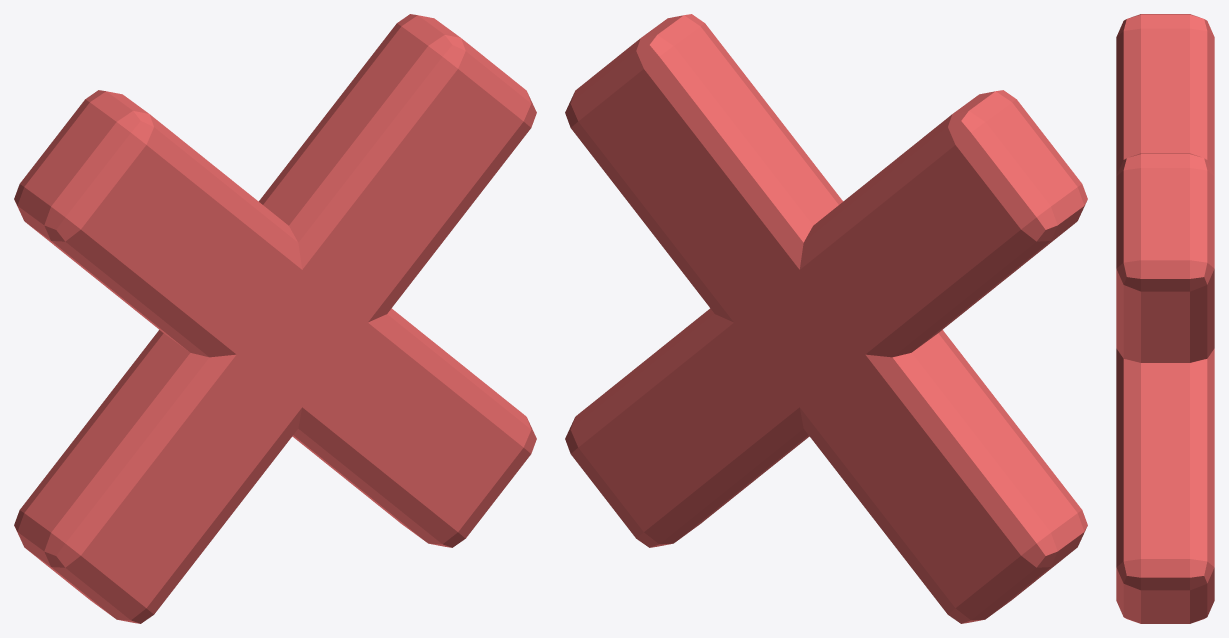
The model's file is ui_cross.glb.
The picture shows the model from 3 angles, left to right: view 1: azimuth 30°, elevation 25°; view 2: azimuth 150°, elevation 25°; view 3: azimuth 270°, elevation 25°; orthographic projection. The views are drawn at different scales.
Visible parts, largest first — view 1: cross_b, cross_a; view 2: cross_b, cross_a; view 3: cross_a, cross_b.
Part boxes in pixels (x1=…): cross_b: x1=14, y1=14, x2=536, y2=623; cross_a: x1=14, y1=90, x2=536, y2=547; cross_b: x1=565, y1=14, x2=1087, y2=623; cross_a: x1=565, y1=90, x2=1087, y2=547; cross_a: x1=1116, y1=14, x2=1214, y2=623; cross_b: x1=1116, y1=153, x2=1214, y2=362.
Size of the model in its own units: 0.0422 by 0.0422 by 0.008.
